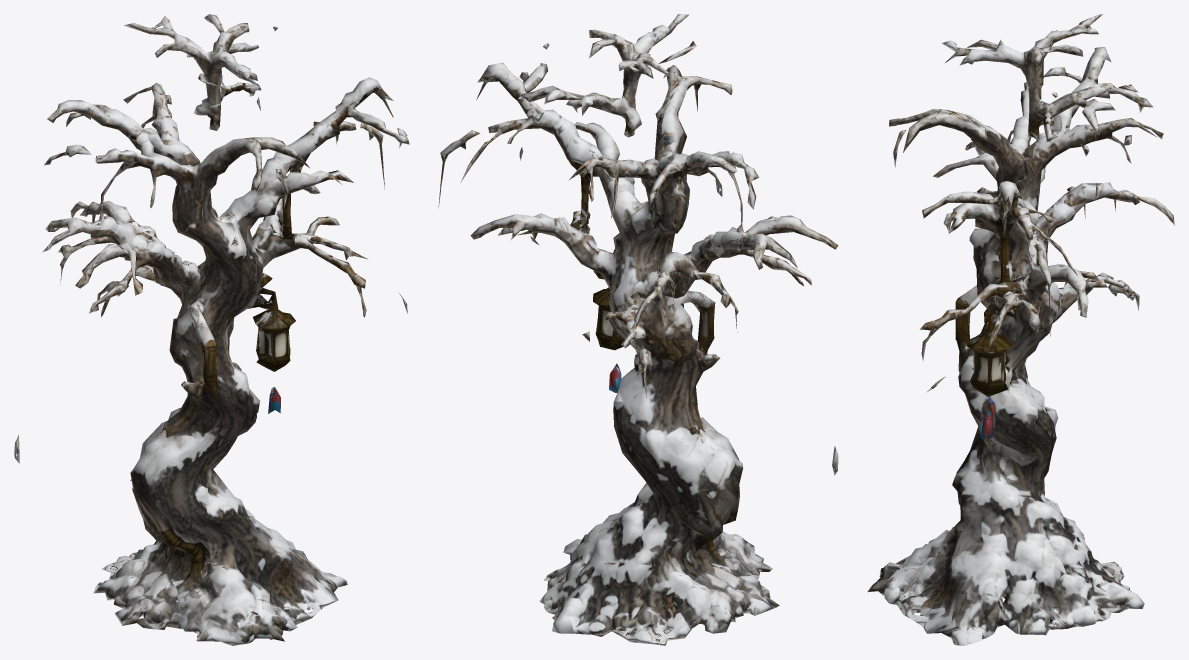
File: PR_Willow.fbx
3 renders of one model, left to right at view 1: azimuth 30°, elevation 25°; view 2: azimuth 150°, elevation 25°; view 3: azimuth 270°, elevation 25°, orthographic. The views are drawn at different scales.
Visible parts, largest first — view 1: texture_mapping; view 2: texture_mapping; view 3: texture_mapping.
Part boxes in pixels (bbox=[...]): texture_mapping: bbox=[14, 14, 409, 645]; texture_mapping: bbox=[438, 14, 838, 645]; texture_mapping: bbox=[867, 14, 1174, 645].
Size of the model in its own units: 0.7227 by 0.4963 by 1.
1 material, 1 textured.
